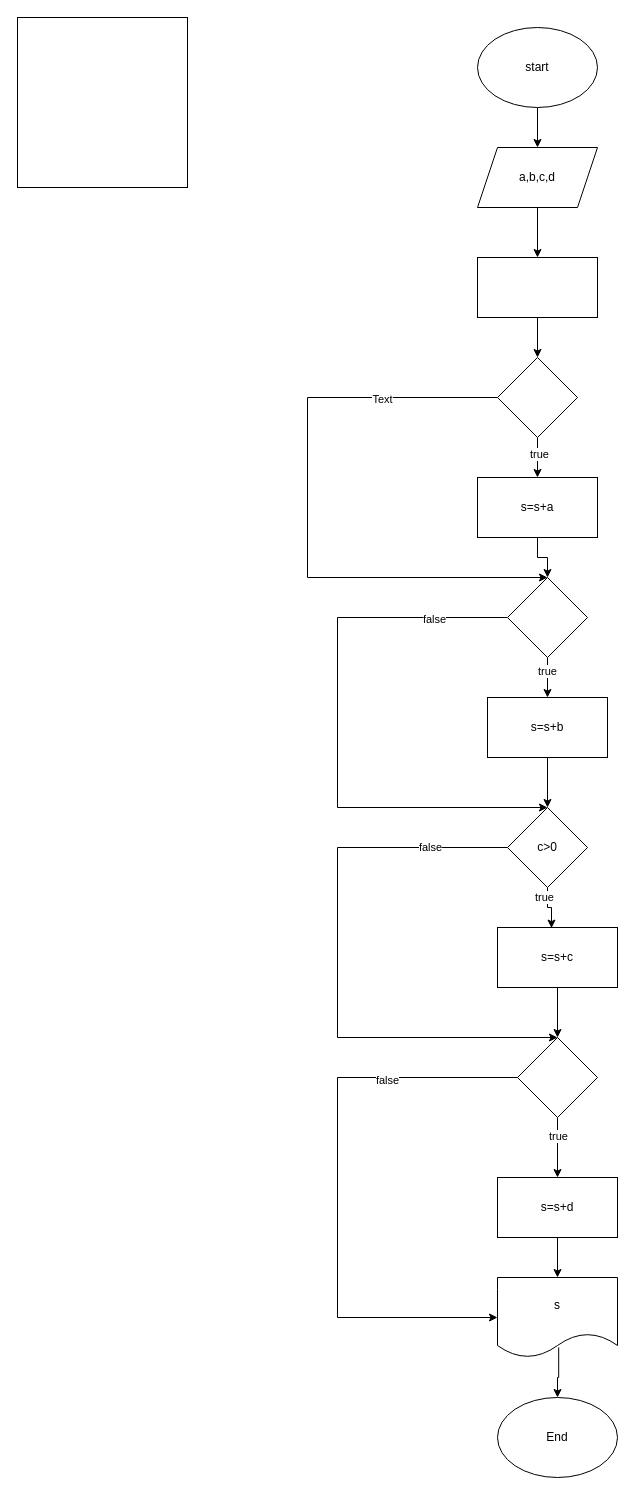
Some shapes in this 635 by 1495 pixel diagram are drawn without their labels. The shapes that lost their labels are listed below. From the top down, each one's centre as x and y in pixels, then its label:
pixel 102 102: 4 ededden musbest olanlarin cemi
pixel 537 287: s=0
pixel 537 397: a>0
pixel 547 617: b>0
pixel 557 1077: d>0
